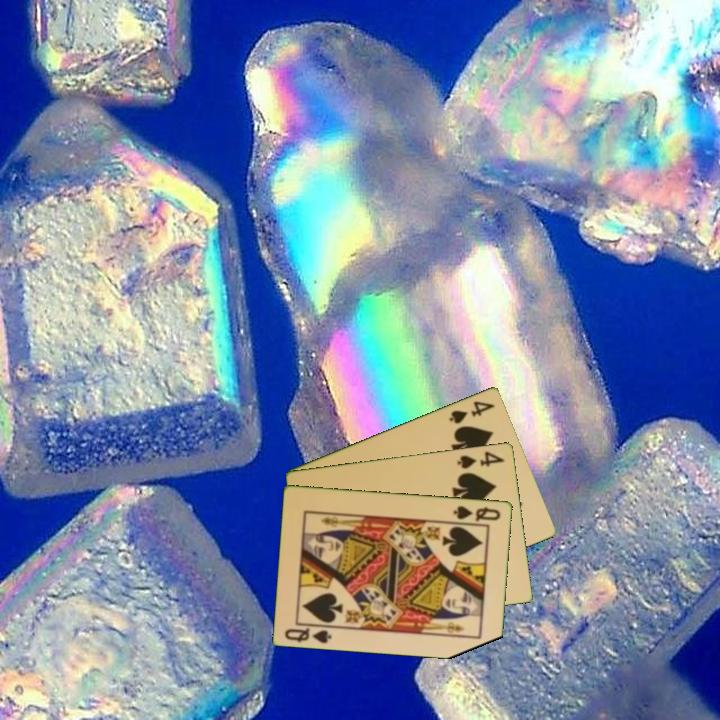4s: (446, 397, 498, 426), (454, 447, 507, 471)
Qs: (450, 502, 504, 524), (281, 624, 335, 646)
